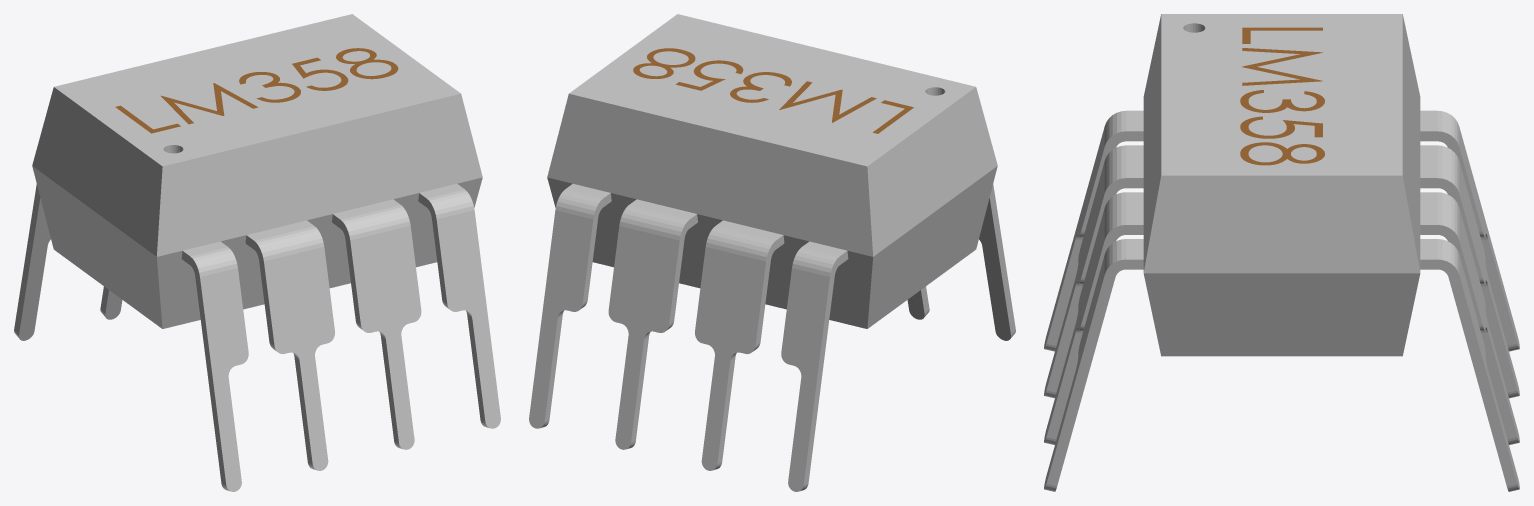
3 renders of one model, left to right at view 1: azimuth 30°, elevation 25°; view 2: azimuth 150°, elevation 25°; view 3: azimuth 270°, elevation 25°, orthographic. The views are drawn at different scales.
Parts seen in each view (by area): view 1: LM358; view 2: LM358; view 3: LM358.
Boxes of the visible parts, left/top/right/bottom form: LM358: left=14, top=14, right=500, bottom=491; LM358: left=529, top=14, right=1015, bottom=491; LM358: left=1044, top=14, right=1519, bottom=491.
Bounding box in the file's own units: 0.0138 × 0.0119 × 0.0157.
